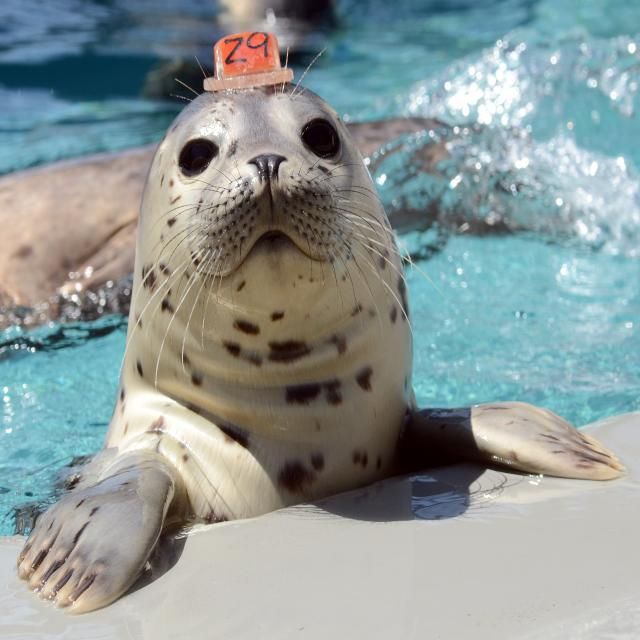seal: (18, 35, 622, 614)
